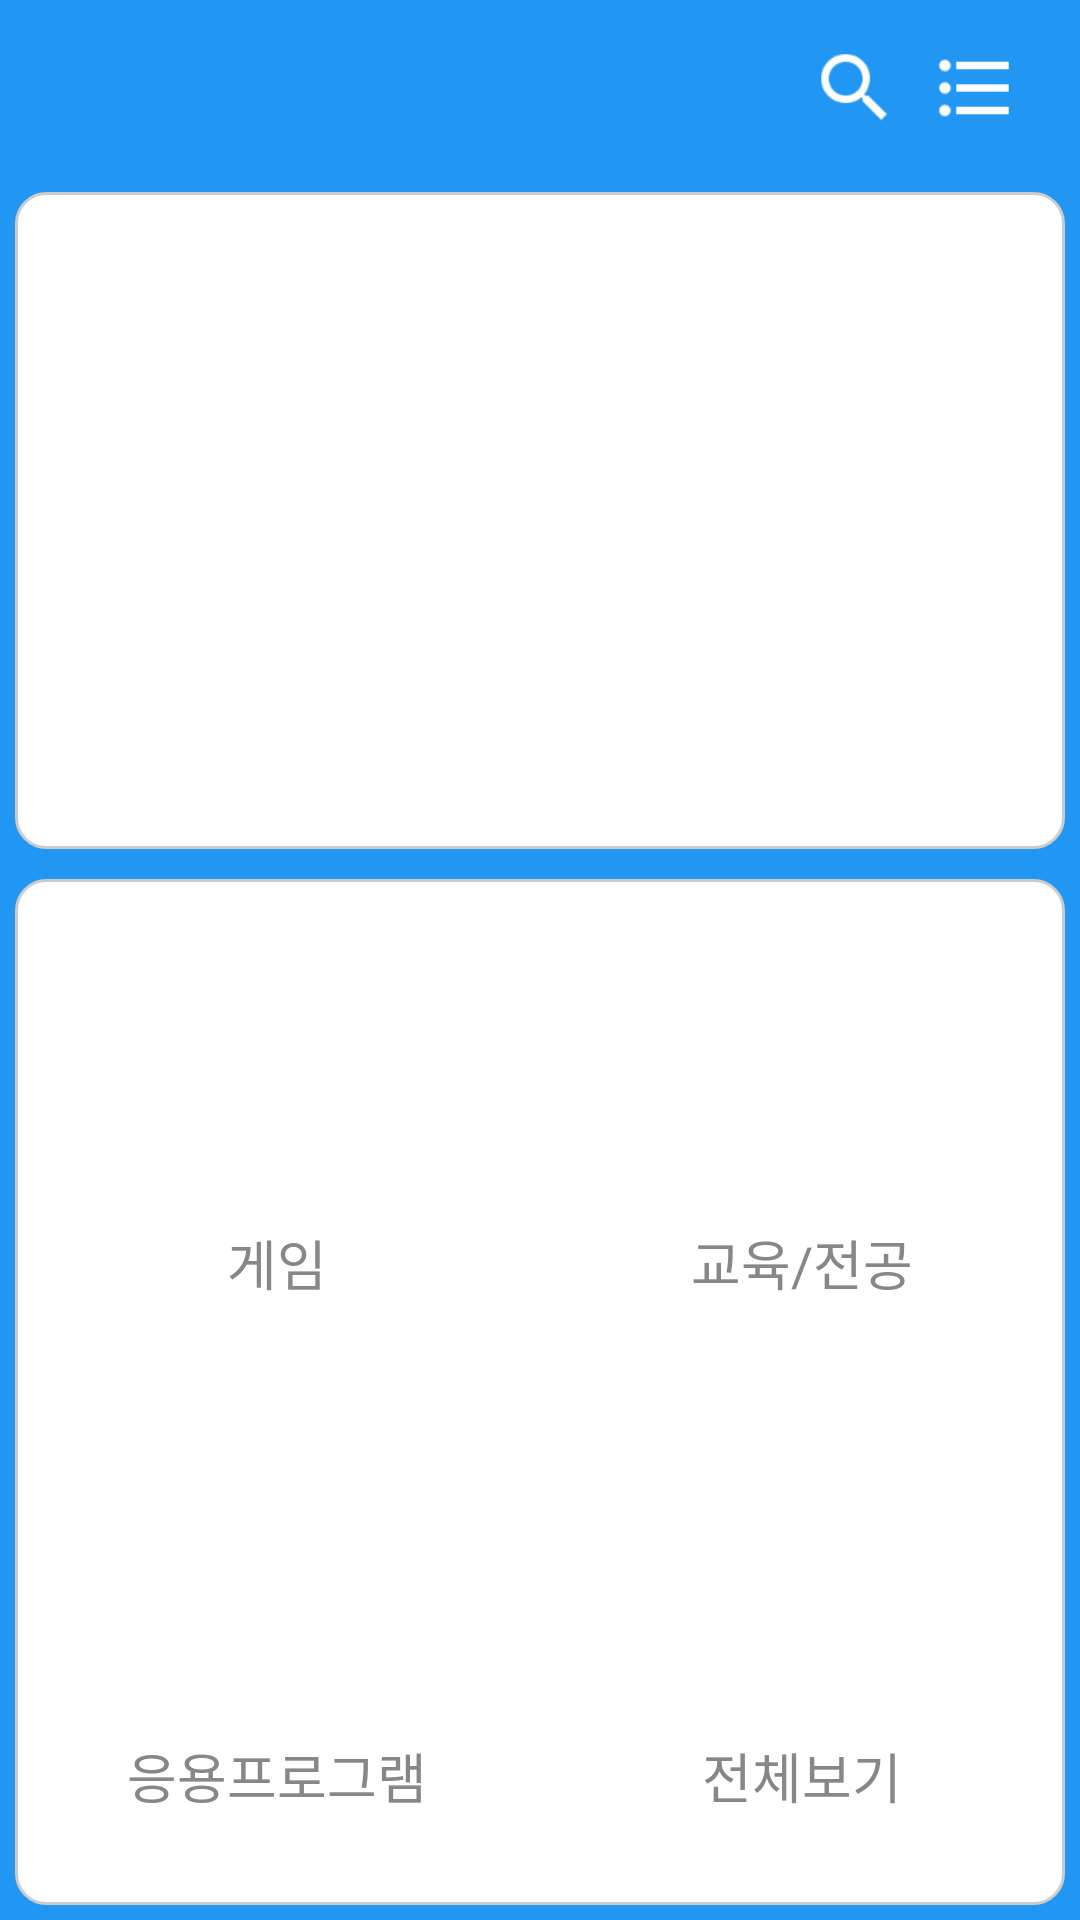

Screen size 1080 × 1920. Icon name, then its center in pixels as (x=x, y=y):
format list bulleted: (x=973, y=88)
search: (x=854, y=87)
